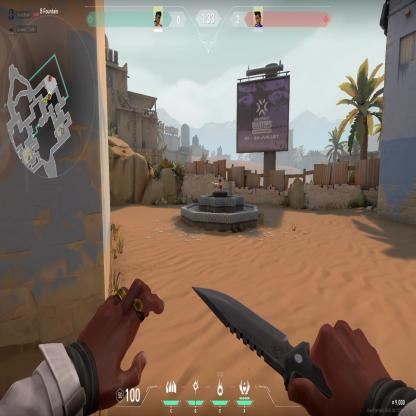enemy: (217, 178, 223, 192)
